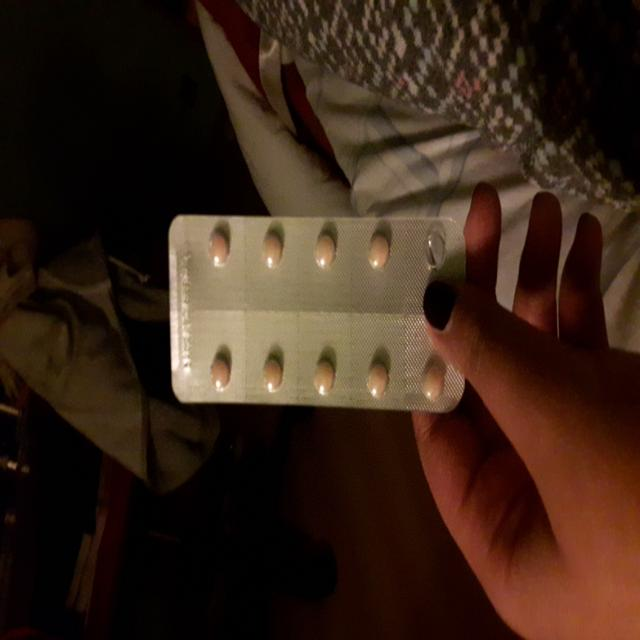Empty: (420, 224, 449, 275)
Pill: (203, 342, 234, 398), (363, 349, 393, 405), (204, 222, 236, 274), (258, 220, 287, 275), (416, 355, 446, 406), (362, 226, 389, 279), (311, 228, 339, 278), (257, 342, 284, 393), (311, 348, 337, 398)
